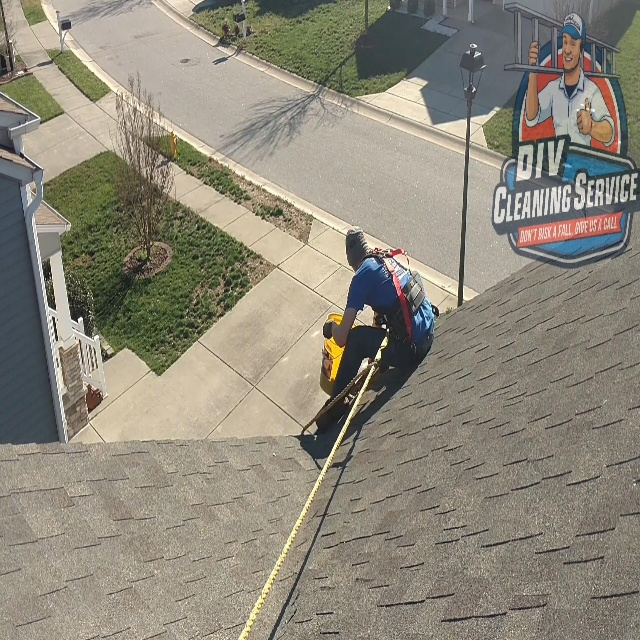Arnes_seguridad: (361, 240, 435, 365)
